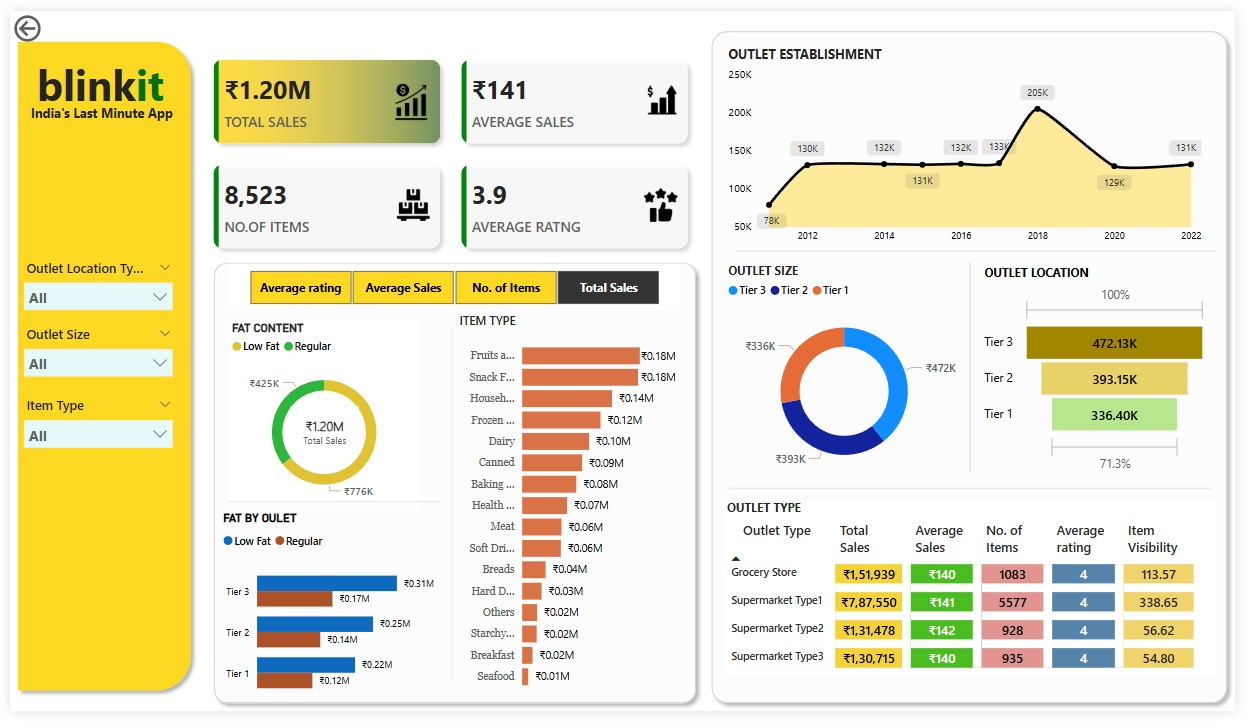

The page's visual inventory and layout, read from the dashboard file:
{"tool":"powerbi","page":{"name":"Page 1","canvas":[1400,800],"ordinal":0},"visuals":[{"type":"shape","box":[0,25.7,215.7,760],"z":0},{"type":"textbox","box":[18.6,101.4,187.1,41.4],"z":1000},{"type":"textbox","box":[25.7,45.7,170,77.1],"z":2000},{"type":"cardVisual","fields":{"Data":["BlinkIT Grocery Data.Total Sales","BlinkIT Grocery Data.Average Sales","BlinkIT Grocery Data.No. of Items","BlinkIT Grocery Data.Average rating"]},"box":[215.7,38.6,577.1,251.4],"z":3000},{"type":"shape","box":[224.3,278.6,568.6,521.4],"z":4000},{"type":"donutChart","title":"FAT CONTENT","fields":{"Y":["BlinkIT Grocery Data.Total Sales"],"Category":["BlinkIT Grocery Data.Item Fat Content"]},"box":[248.6,354.3,221.4,217.1],"z":5000},{"type":"slicer","fields":{"Values":["Metrics.Metrics"]},"box":[248.6,290,517.1,51.4],"z":6000},{"type":"cardVisual","fields":{"Data":["BlinkIT Grocery Data.Total Sales"]},"box":[315.7,447.1,88.6,65.7],"z":7000},{"type":"clusteredBarChart","title":"FAT BY OULET","fields":{"Y":["BlinkIT Grocery Data.Total Sales"],"Category":["BlinkIT Grocery Data.Outlet Location Type"],"Series":["BlinkIT Grocery Data.Item Fat Content"]},"box":[238.6,571.4,252.9,228.6],"z":8000},{"type":"shape","box":[802.9,251.4,564.3,12.9],"z":9000},{"type":"shape","box":[495,360.8,18.3,402.5],"z":10000},{"type":"barChart","title":"ITEM TYPE","fields":{"Y":["BlinkIT Grocery Data.Total Sales"],"Category":["BlinkIT Grocery Data.Item Type"]},"box":[508.6,344.3,257.1,441.4],"z":11000},{"type":"shape","box":[792.9,14.3,607.1,785.7],"z":12000},{"type":"lineChart","title":"OUTLET ESTABLISHMENT","fields":{"Y":["Sum(BlinkIT Grocery Data.Sales)"],"Category":["BlinkIT Grocery Data.Outlet Establishment Year"]},"box":[815.7,38.6,551.4,235.7],"z":13000},{"type":"shape","box":[248.6,550,242.9,21.4],"z":14000},{"type":"shape","box":[821.4,530,551.4,31.4],"z":15000},{"type":"donutChart","title":"OUTLET SIZE","fields":{"Y":["BlinkIT Grocery Data.Total Sales"],"Category":["BlinkIT Grocery Data.Outlet Location Type"]},"box":[815.7,287.1,275.7,254.3],"z":16000},{"type":"shape","box":[1080.8,286.7,31.7,240.8],"z":17000},{"type":"funnel","title":"OUTLET LOCATION","fields":{"Y":["Sum(BlinkIT Grocery Data.Sales)"],"Category":["BlinkIT Grocery Data.Outlet Location Type"]},"box":[1108.6,290,264.3,242.9],"z":18000},{"type":"shape","box":[828.6,258.6,551.4,31.4],"z":19000},{"type":"actionButton","box":[0,0,100,40],"z":20000},{"type":"pivotTable","title":"OUTLET TYPE","fields":{"Values":["BlinkIT Grocery Data.Total Sales","BlinkIT Grocery Data.Average Sales","BlinkIT Grocery Data.No. of Items","BlinkIT Grocery Data.Average rating","Sum(BlinkIT Grocery Data.Item Visibility)"],"Rows":["BlinkIT Grocery Data.Outlet Type"]},"box":[814.3,558.6,565.7,201.4],"z":21000},{"type":"slicer","fields":{"Values":["BlinkIT Grocery Data.Outlet Location Type"]},"box":[5.4,278.4,189.6,87.4],"z":22000},{"type":"slicer","fields":{"Values":["BlinkIT Grocery Data.Outlet Size"]},"box":[5.4,353.7,189.6,87.4],"z":22001},{"type":"slicer","fields":{"Values":["BlinkIT Grocery Data.Item Type"]},"box":[5.4,435.8,189.6,87.4],"z":22002}]}

Visuals, with their boxes in screenshot pixels (x1, y1, x2, y2), scaled from the page's 1400x800 canvas onto the 1252x727 screenshot:
shape: 0:23:193:714
textbox: 17:92:184:130
textbox: 23:42:175:112
cardVisual - BlinkIT Grocery Data.Total Sales x BlinkIT Grocery Data.Average Sales: 193:35:709:264
shape: 201:253:709:726
"FAT CONTENT" donutChart: 222:322:420:519
slicer - Metrics.Metrics: 222:264:685:310
cardVisual - BlinkIT Grocery Data.Total Sales: 282:406:362:466
"FAT BY OULET" clusteredBarChart: 213:519:440:726
shape: 718:228:1223:240
shape: 443:328:459:694
"ITEM TYPE" barChart: 455:313:685:714
shape: 709:13:1251:726
"OUTLET ESTABLISHMENT" lineChart: 729:35:1223:249
shape: 222:500:440:519
shape: 735:482:1228:510
"OUTLET SIZE" donutChart: 729:261:976:492
shape: 967:261:995:479
"OUTLET LOCATION" funnel: 991:264:1228:484
shape: 741:235:1234:264
actionButton: 0:0:89:36
"OUTLET TYPE" pivotTable: 728:508:1234:691
slicer - BlinkIT Grocery Data.Outlet Location Type: 5:253:174:332
slicer - BlinkIT Grocery Data.Outlet Size: 5:321:174:401
slicer - BlinkIT Grocery Data.Item Type: 5:396:174:475
